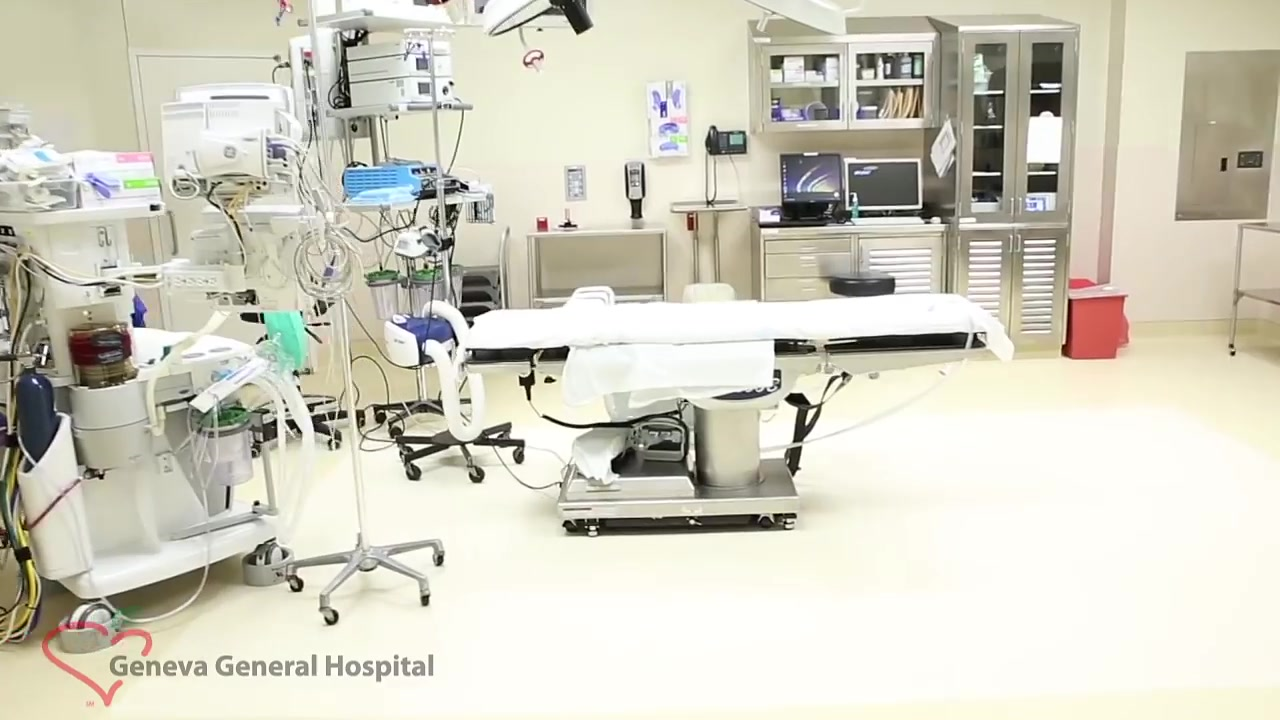breathing_tube: (210, 354, 315, 545)
cabinet: (931, 13, 1080, 356), (746, 20, 939, 130)
chair: (829, 269, 894, 298)
computer: (844, 157, 922, 210), (779, 151, 842, 203)
dispenser: (625, 161, 647, 220)
door_handle: (165, 209, 181, 257)
drawer: (753, 219, 947, 300)
electrosurgical_unit: (341, 161, 461, 203)
handle: (1017, 196, 1025, 218), (1008, 197, 1016, 219), (1015, 234, 1023, 255), (1007, 234, 1015, 255), (800, 260, 817, 268), (799, 286, 818, 293), (849, 102, 855, 124), (841, 102, 847, 124), (799, 246, 817, 250)
iv_pole: (300, 1, 371, 550), (401, 22, 458, 302)
keyboard: (758, 220, 827, 228)
operating_bed: (453, 286, 1014, 537)
surgical_light: (740, 1, 850, 36), (481, 1, 556, 38)
table: (524, 224, 667, 310)
telephone: (704, 126, 748, 156)
utility_cart: (1227, 220, 1280, 357), (670, 200, 749, 284)
ventilator: (1, 139, 301, 604)
waste_bin: (1062, 277, 1129, 362)
